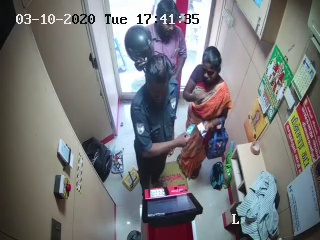helmet: (126, 24, 157, 69)
